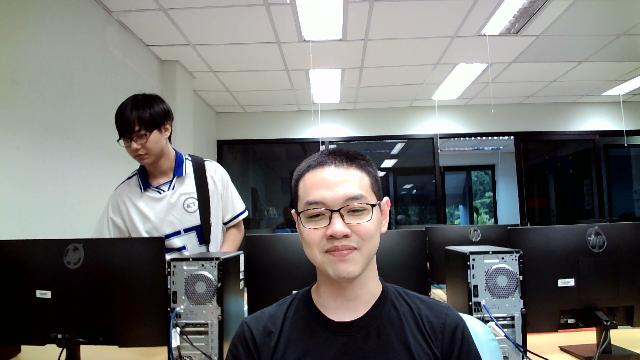fokus: (292, 169, 392, 280)
